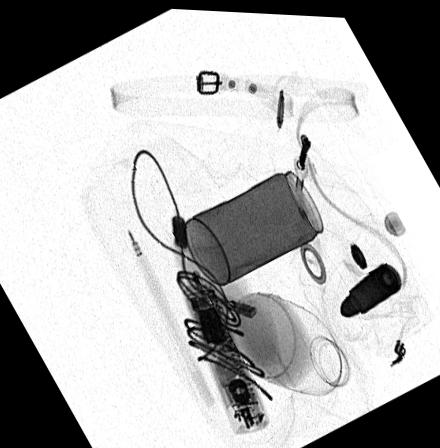Bullet: (339, 257, 401, 313)
